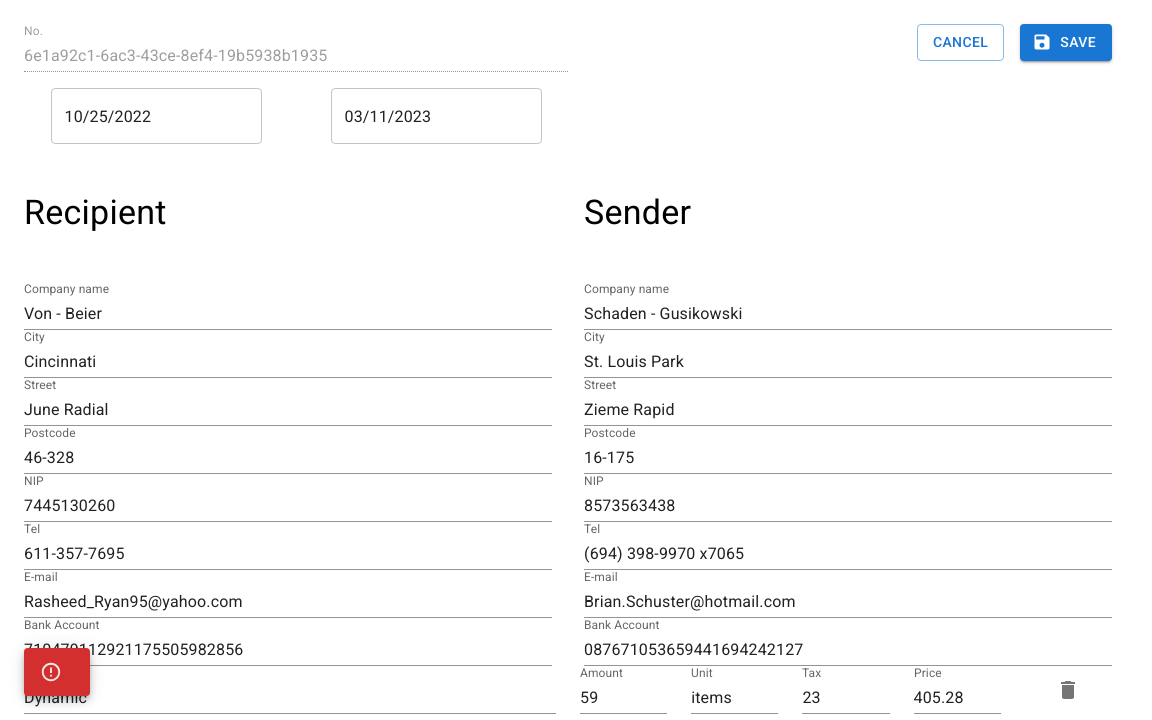
Test: Edit Invoice › should show error on save
The image size is (1152, 720).
Type " changed" into the field labelled "Company name".
click(288, 314); type(" changed")  # box [24,298,552,330]
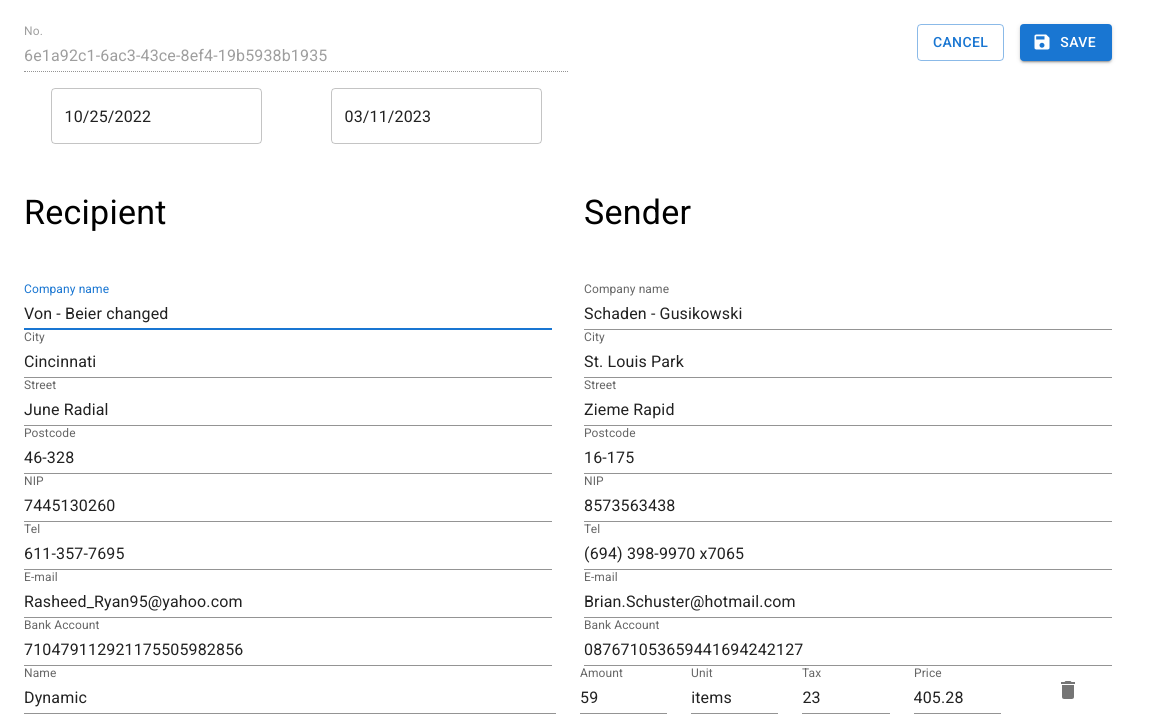
Click the button "Save".
click(1066, 42)  # box [1020,24,1112,60]
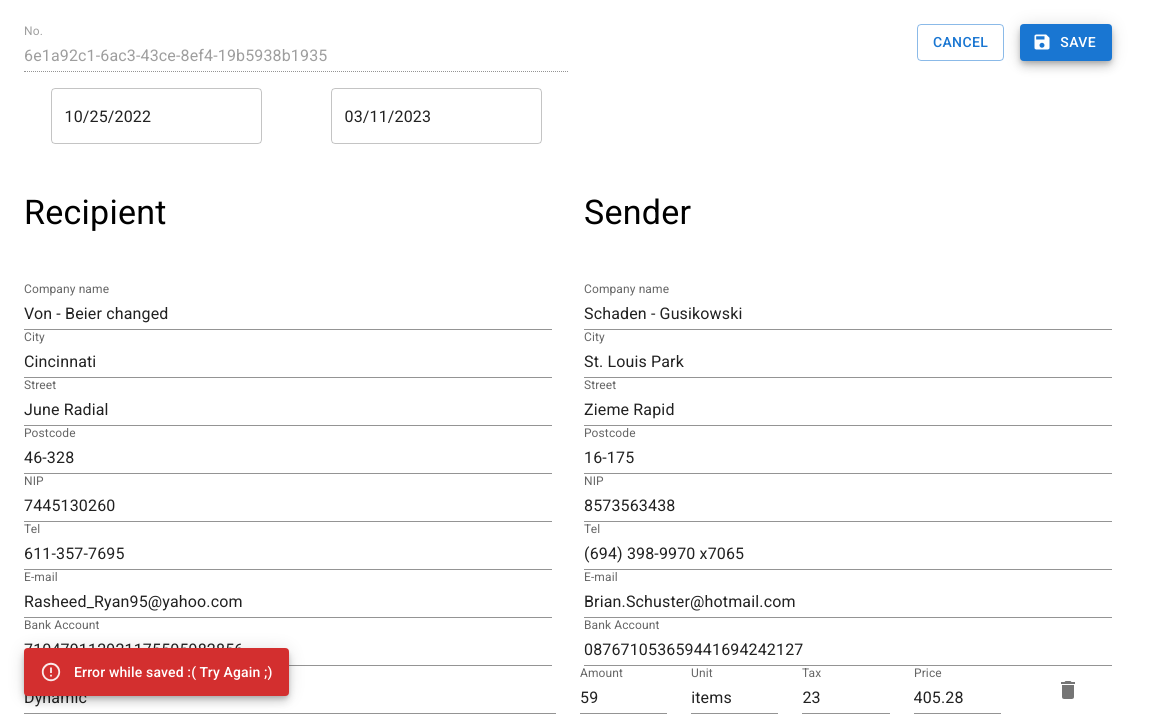
Result: the text "Error while saved :( Try Again ;)" is shown at [74,664,273,680]
